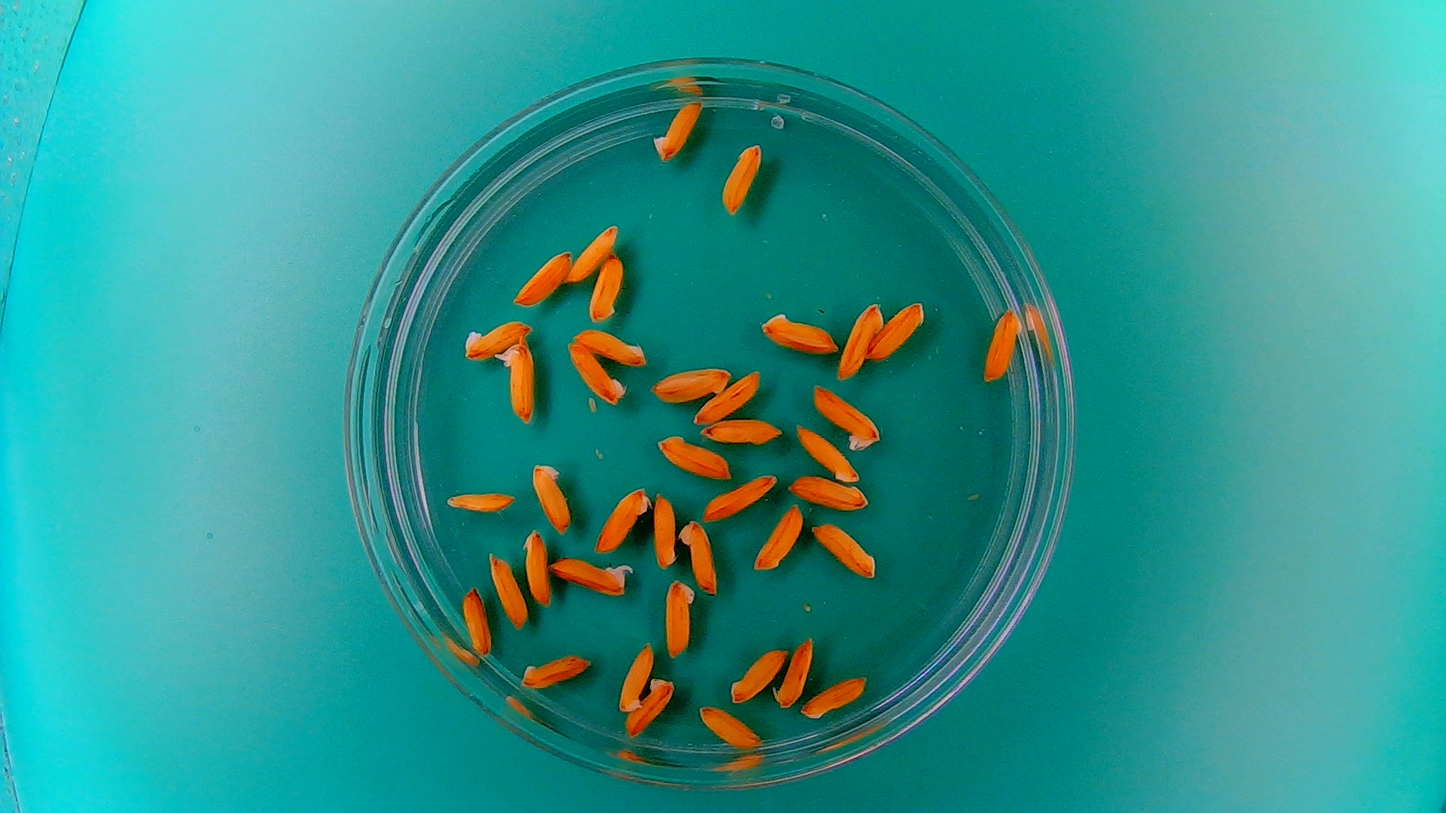no: (563, 337, 629, 407), (792, 421, 863, 483), (810, 519, 880, 580), (691, 367, 763, 426), (592, 483, 651, 554), (755, 308, 840, 355), (836, 299, 884, 382), (700, 471, 778, 522), (867, 298, 927, 362), (751, 501, 804, 573), (654, 431, 731, 480), (649, 96, 706, 162), (511, 248, 574, 307), (728, 644, 788, 705), (718, 139, 764, 216), (486, 550, 529, 630), (566, 221, 620, 284), (679, 516, 721, 597), (772, 634, 816, 711), (529, 460, 573, 537), (800, 671, 869, 720), (649, 363, 733, 403), (787, 472, 871, 512), (624, 673, 675, 738), (981, 305, 1024, 382), (460, 317, 535, 361), (696, 702, 762, 751), (570, 327, 649, 367), (518, 649, 593, 690), (662, 574, 697, 659), (616, 639, 654, 713), (586, 251, 624, 324), (520, 525, 552, 608), (700, 416, 786, 446), (459, 583, 493, 658), (443, 487, 518, 515)
yes: (810, 381, 882, 450), (545, 552, 635, 598), (496, 336, 537, 427)
